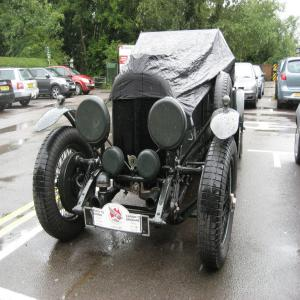Vehicle-registration-plate: (85, 204, 151, 238)
